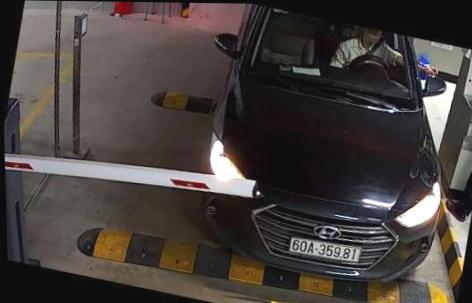License_Plate: (284, 236, 362, 265)
